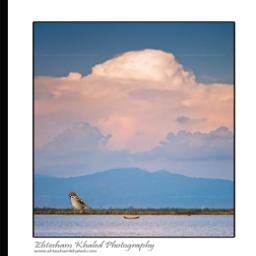Sparrow: (68, 192, 92, 213)
